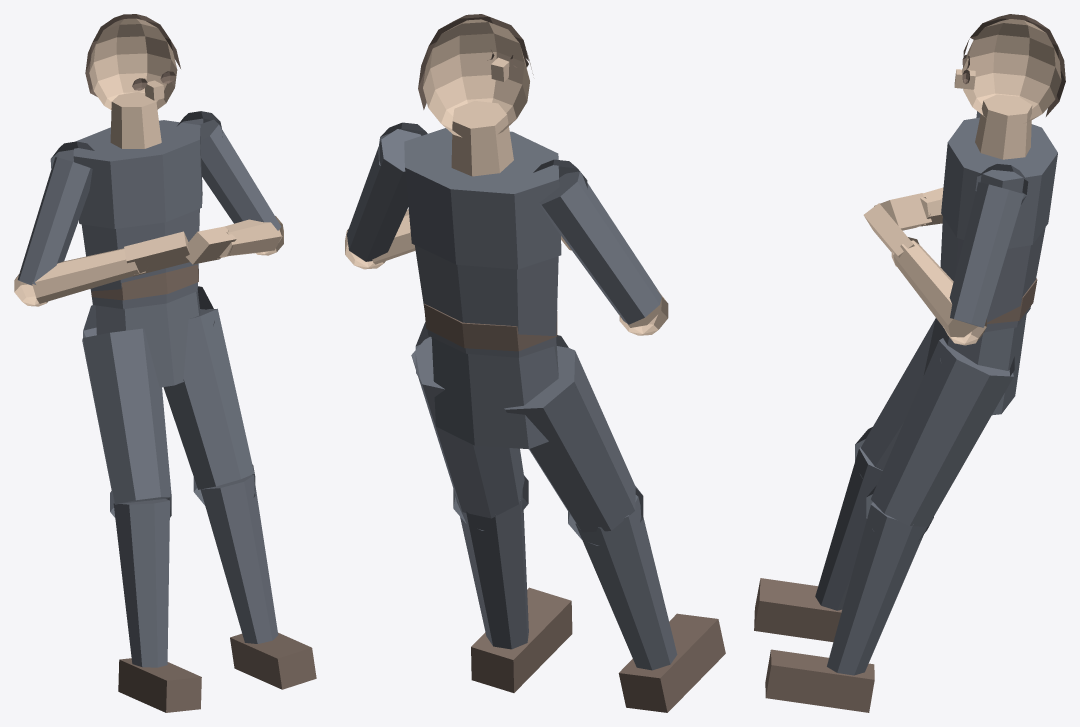
File: low-poly-character-figures-civilian-leaning-7dd8a161.glb
3 views of the same model, side by side, from view 1: azimuth 30°, elevation 25°; view 2: azimuth 150°, elevation 25°; view 3: azimuth 270°, elevation 25° (orthographic). The views are drawn at different scales.
Parts seen in each view (by area): view 1: civilian-leaning; view 2: civilian-leaning; view 3: civilian-leaning.
Boxes of the visible parts, box(x1,y1,x2,y2) form: civilian-leaning: box(14, 14, 316, 712); civilian-leaning: box(345, 14, 725, 712); civilian-leaning: box(754, 14, 1065, 712).
Bounding box in the file's own units: 0.7649 × 1.71 × 0.73.
